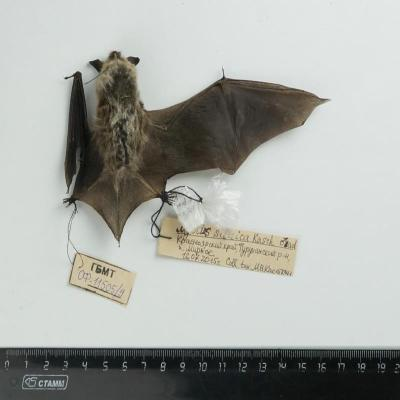natural_science_collection: (64, 52, 330, 240)
